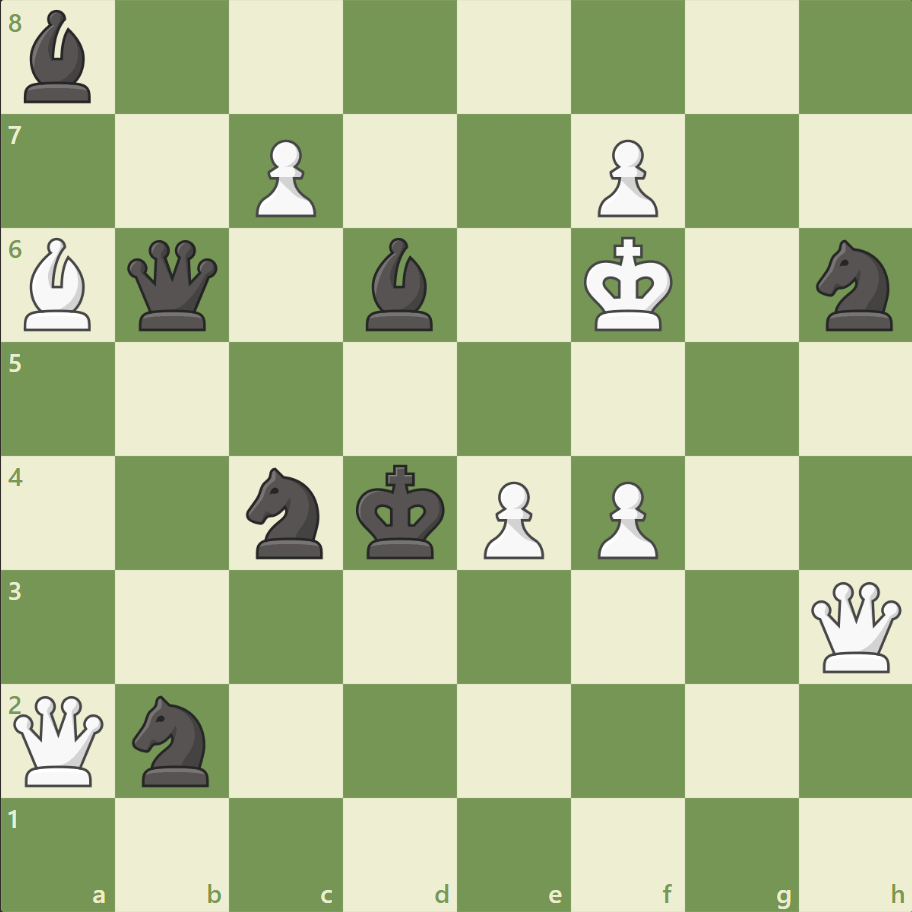B: (17, 233, 101, 336)
K: (579, 231, 679, 339)
P: (247, 132, 322, 223), (474, 473, 549, 564), (588, 132, 662, 223), (588, 473, 662, 564)
Q: (805, 576, 904, 676), (10, 690, 109, 789)
b: (17, 6, 101, 109), (358, 233, 442, 336)
k: (351, 458, 451, 566)
n: (124, 688, 222, 791), (806, 234, 903, 337), (238, 461, 335, 564)
q: (124, 236, 223, 335)
